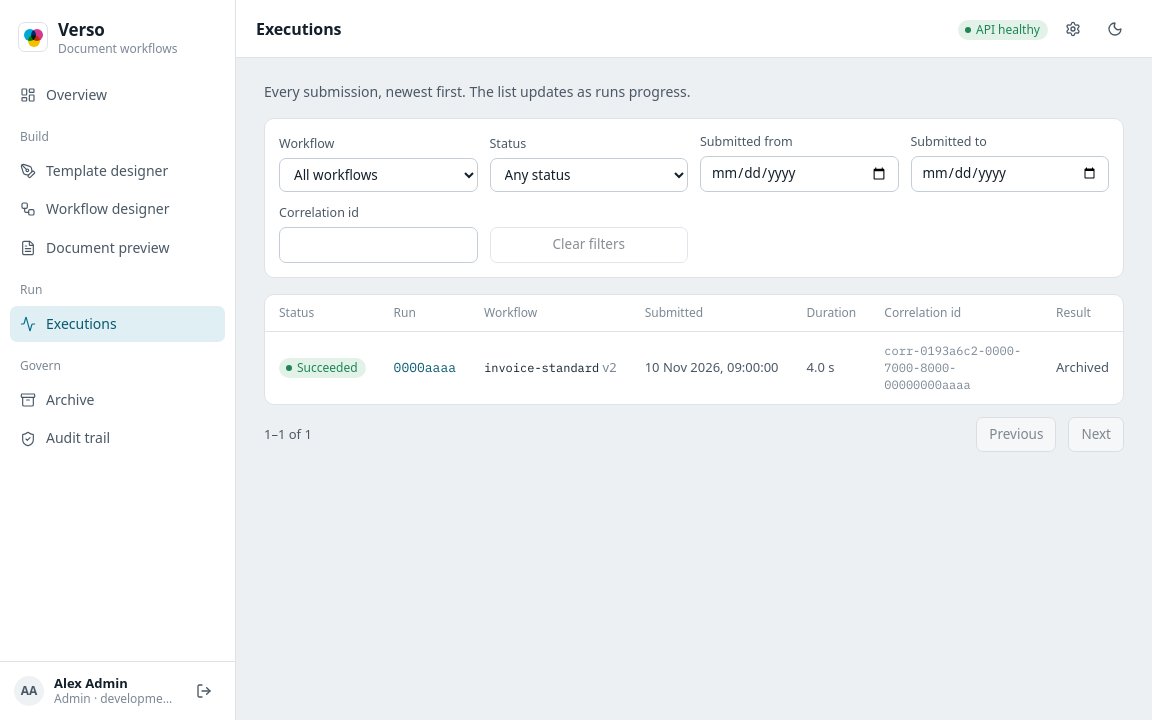
Test: Execution list › says when no run matches, and clearing the filters brings the list back
The image size is (1152, 720).
Expected: the table named "Executions" is shown, top-left (265, 295), bottom-right (1123, 404)
Select "Failed" in the dropdown labelled "Status". click: {"x": 589, "y": 175}
box: top-left (490, 158), bottom-right (688, 192)
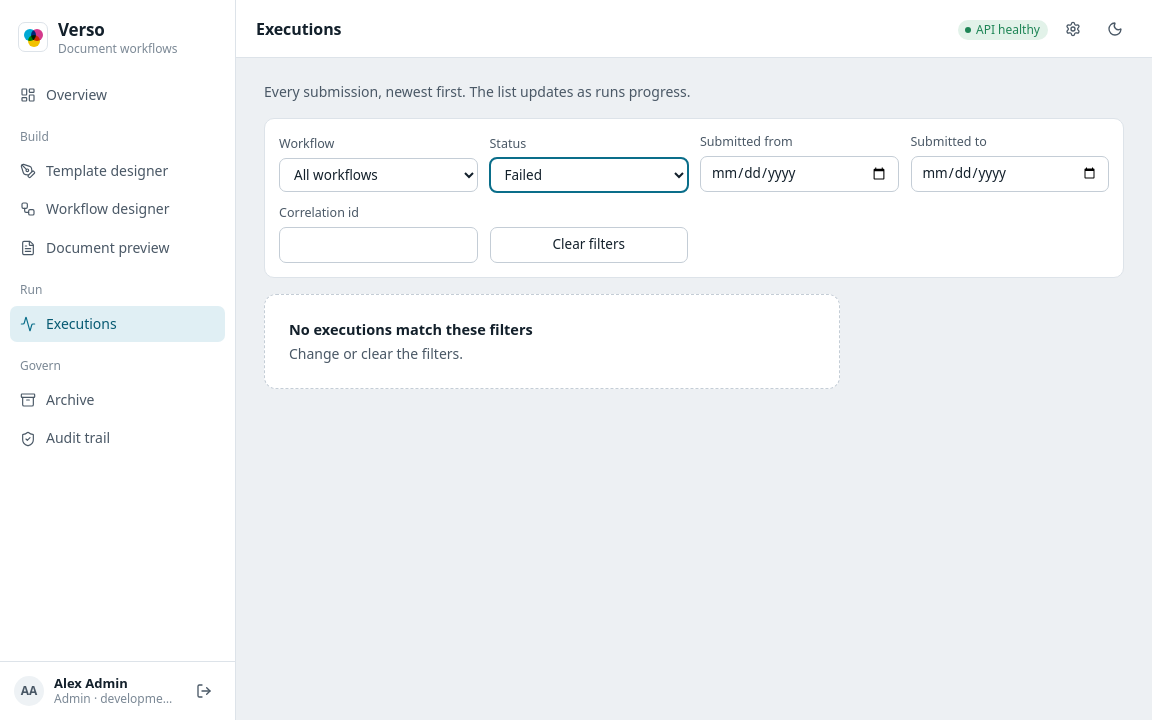
Expected: the heading "No executions match these filters" is shown, top-left (289, 319), bottom-right (533, 339)
Click the button "Clear filters". click: {"x": 589, "y": 245}
box: top-left (490, 227), bottom-right (688, 263)
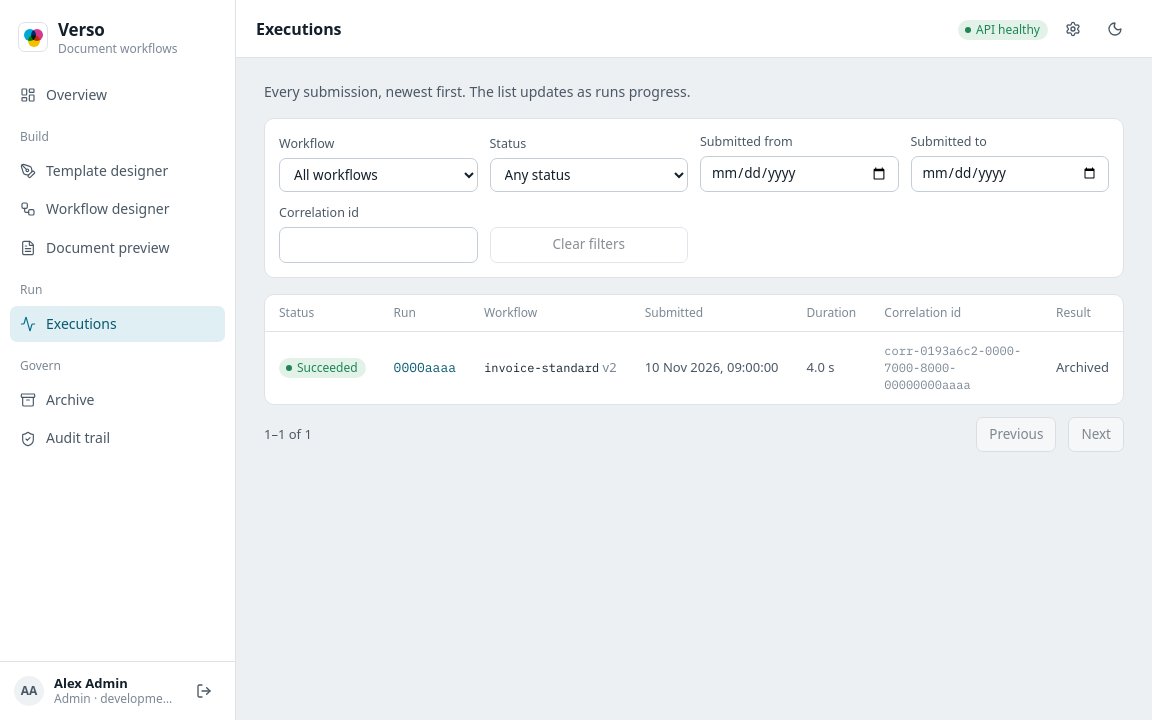
Expected: the table named "Executions" is shown, top-left (265, 295), bottom-right (1123, 404)
